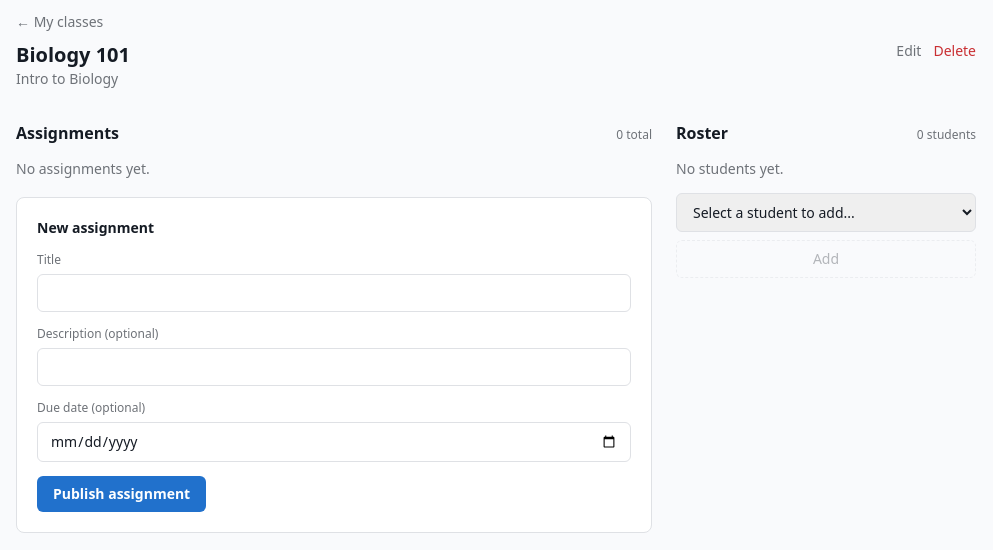
it: ClassDetailPage › adds a student to the roster
expect the text "No students yet." is shown: met, box [676,159,784,178]
Select "Sam Student (sam@example.com)" in the dropdown: (826, 212) [676,193,976,232]
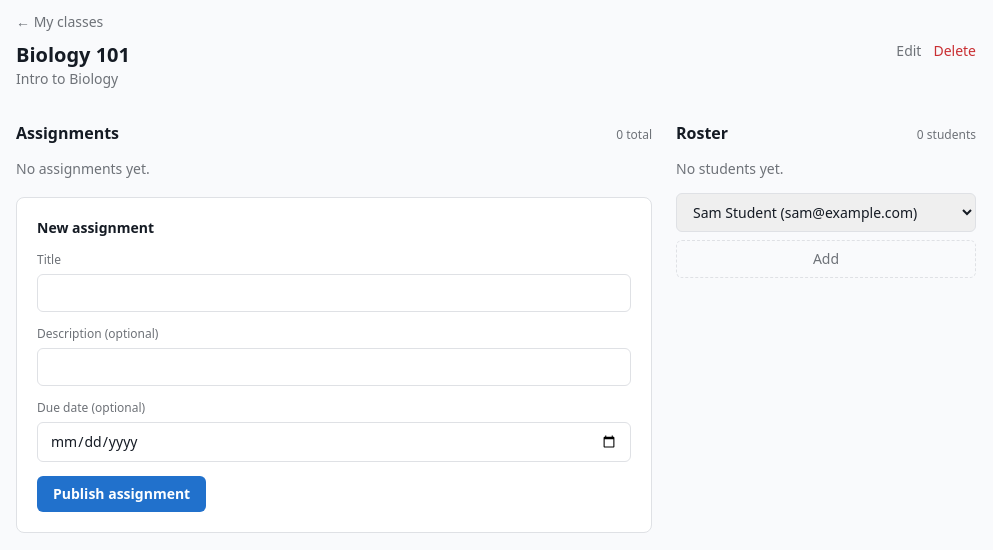
Click the button "Add": (826, 259) [676,240,976,278]
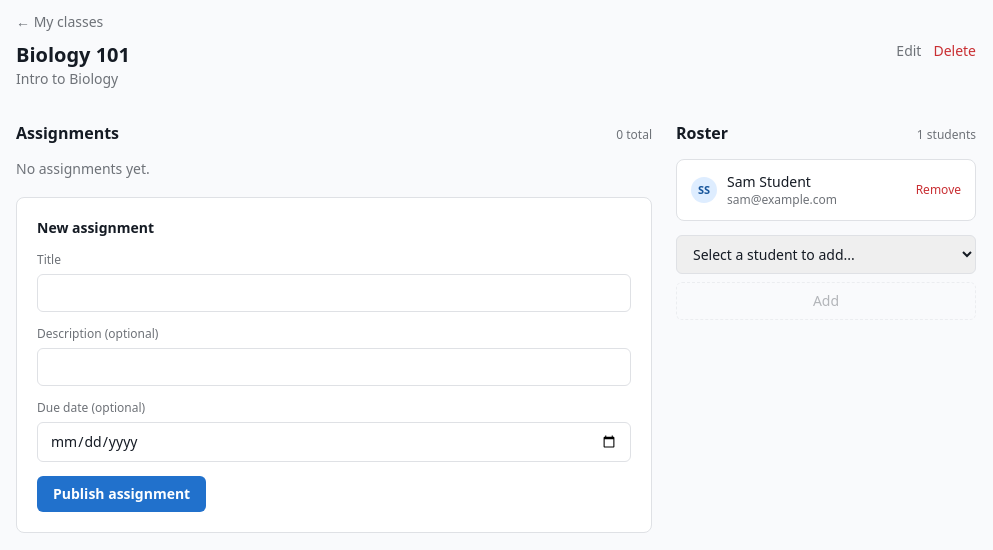
expect the text "Sam Student" is shown: met, box [727,172,811,191]
